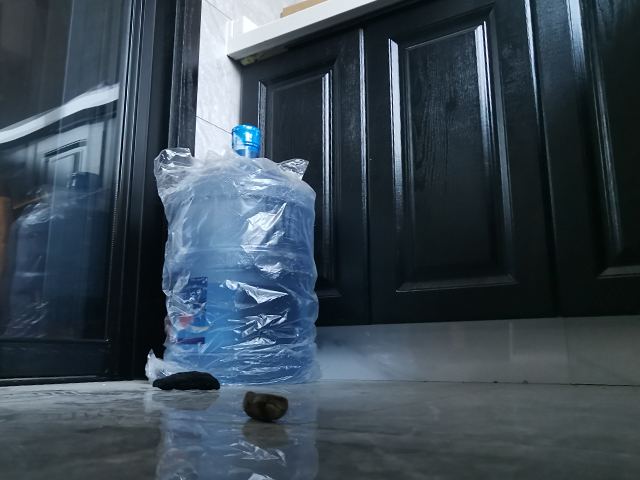cabinet: (318, 9, 640, 385)
feces: (237, 391, 292, 423), (151, 370, 223, 394)
